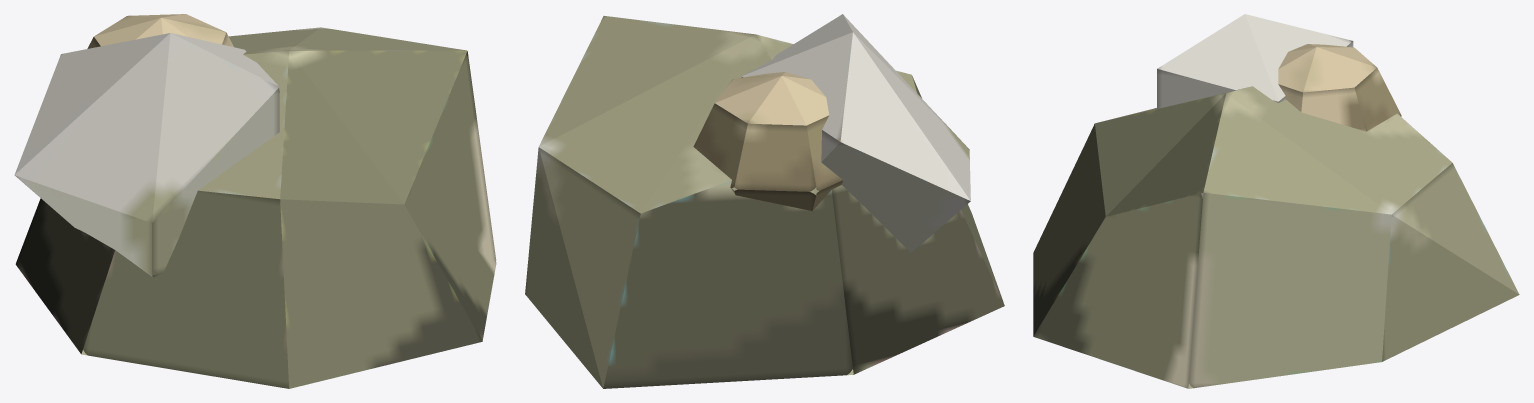
File: rock.obj
3 views of the same model, side by side, from view 1: azimuth 30°, elevation 25°; view 2: azimuth 150°, elevation 25°; view 3: azimuth 270°, elevation 25° (orthographic). The views are drawn at different scales.
Parts seen in each view (by area): view 1: sphere; view 2: sphere; view 3: sphere.
Boxes of the visible parts, x1,y1,x2,y2 form: sphere: (14,14,496,388); sphere: (525,14,1004,388); sphere: (1033,14,1519,388).
Size of the model in its own units: 0.5374 by 0.331 by 0.59.
Materials: 1 (1 with a texture image).
